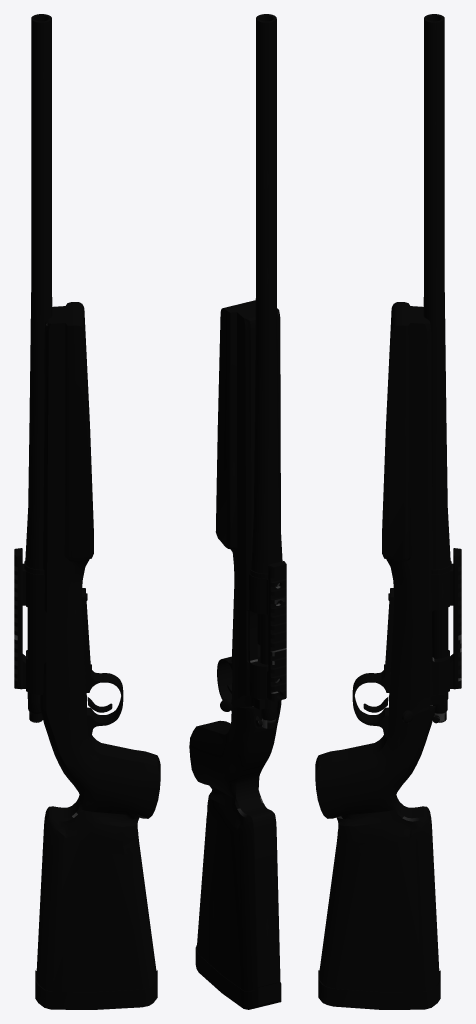
File: Rem700.fbx
3 renders of one model, left to right at view 1: azimuth 90°, elevation 25°; view 2: azimuth 210°, elevation 25°; view 3: azimuth 270°, elevation 25°, orthographic.
Visible parts, largest first — view 1: asset_Rem700.001; view 2: asset_Rem700.001; view 3: asset_Rem700.001.
Part boxes in pixels (box(x1,y1,x2,y2)): asset_Rem700.001: box(14, 14, 160, 1009); asset_Rem700.001: box(189, 14, 286, 1009); asset_Rem700.001: box(315, 14, 461, 1009).
Bounding box in the file's own units: 0.0372 × 0.636 × 0.0857.
